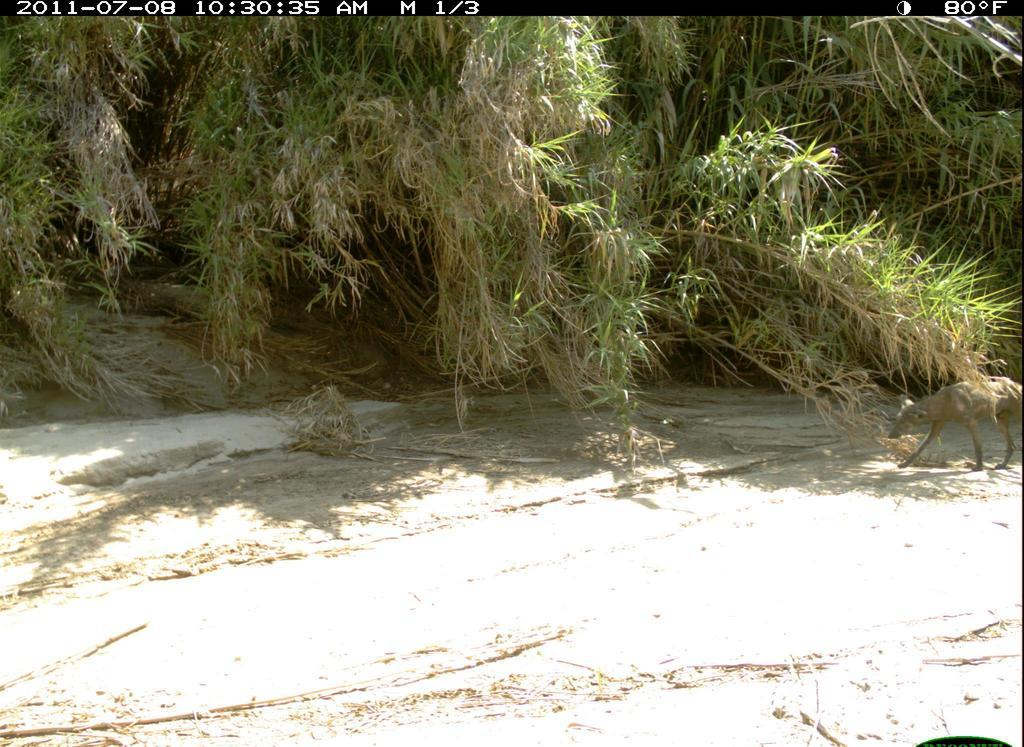coyote: (885, 378, 1022, 481)
